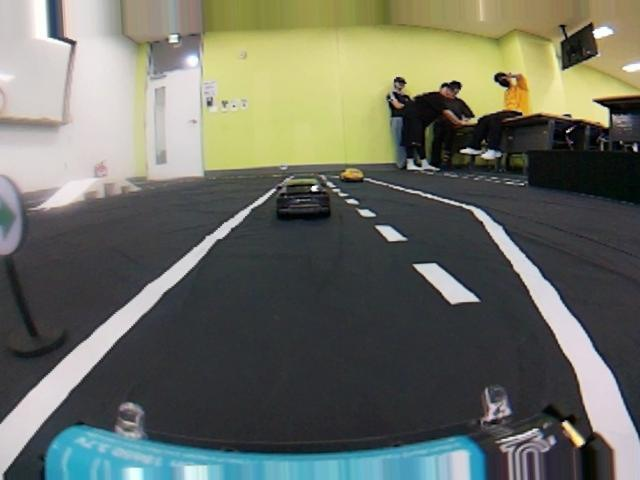car: (274, 174, 336, 219), (334, 166, 368, 185)
sign_right: (0, 179, 39, 256)
straight: (0, 218, 640, 479)
